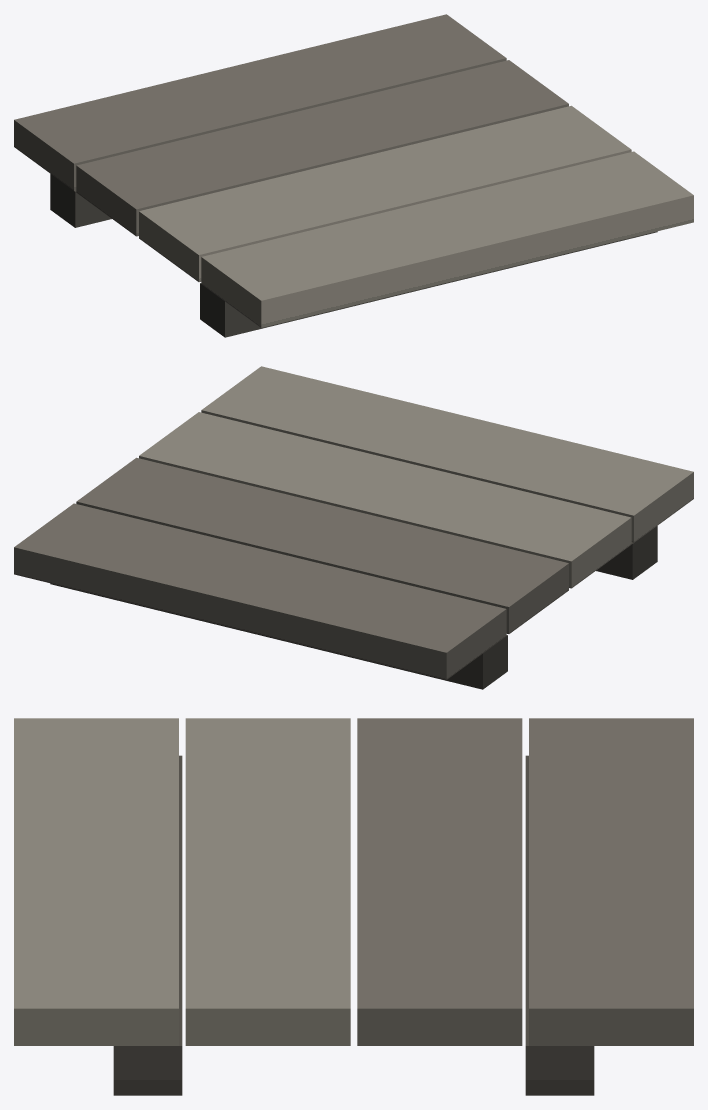
The model's file is model_48_stone.glb.
3 views of the same model, one above another, from view 1: azimuth 30°, elevation 25°; view 2: azimuth 150°, elevation 25°; view 3: azimuth 270°, elevation 25° (orthographic). The views are drawn at different scales.
Size of the model in its own units: 1 by 0.14 by 0.99.
1 material, 1 textured.
